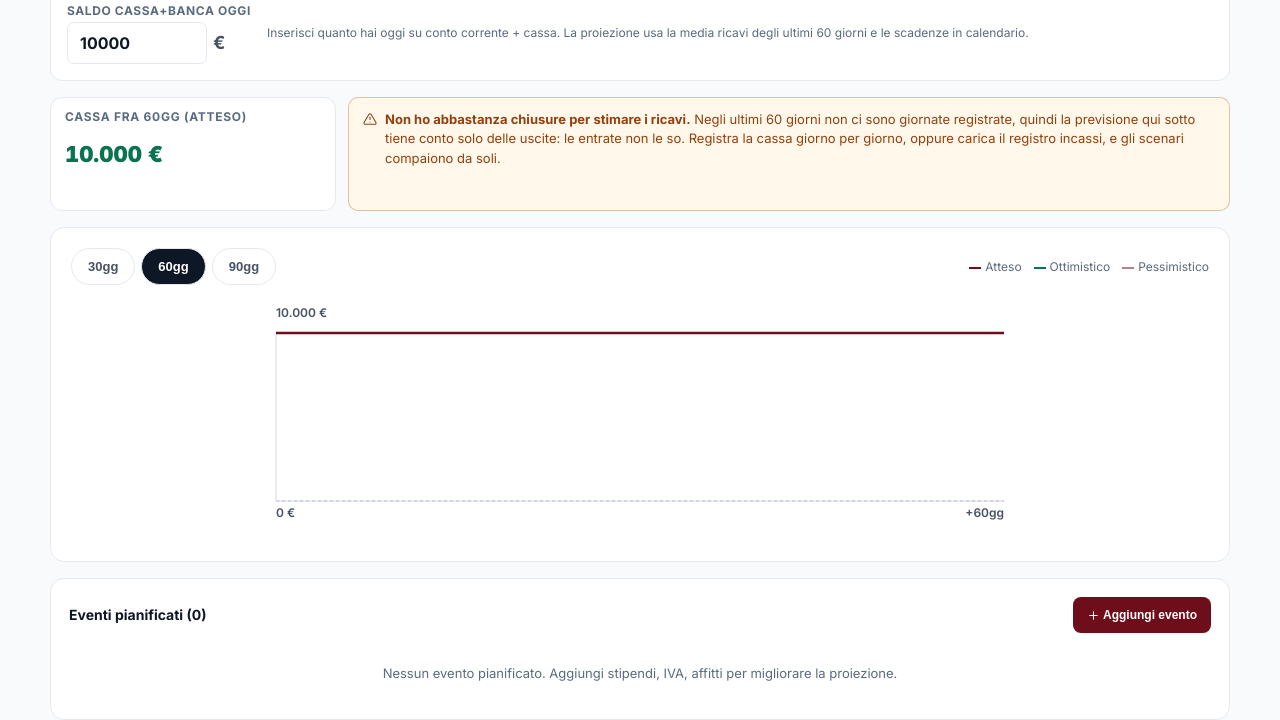
Test: aggiungere un evento: dice quale campo manca, e salva prima di mostrare › il modulo si chiude solo dopo che il salvataggio è andato
(page scrolled)
Click the button "Aggiungi evento" at coordinates (1142, 615), box [1073,597,1211,633]
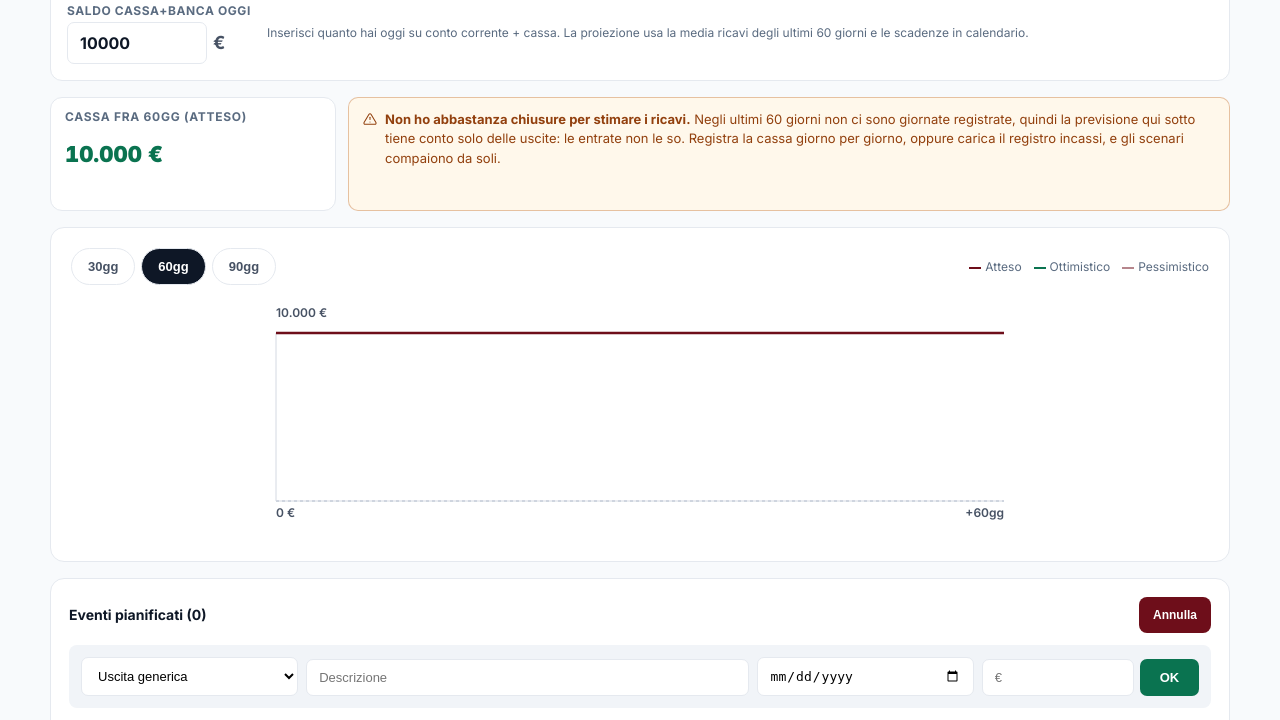
Expected: the field named "Importo in euro" is shown, [982,659,1134,696]
Type "IVA" into the field named "Descrizione dell'evento" at coordinates (527, 678), box [306,659,749,696]
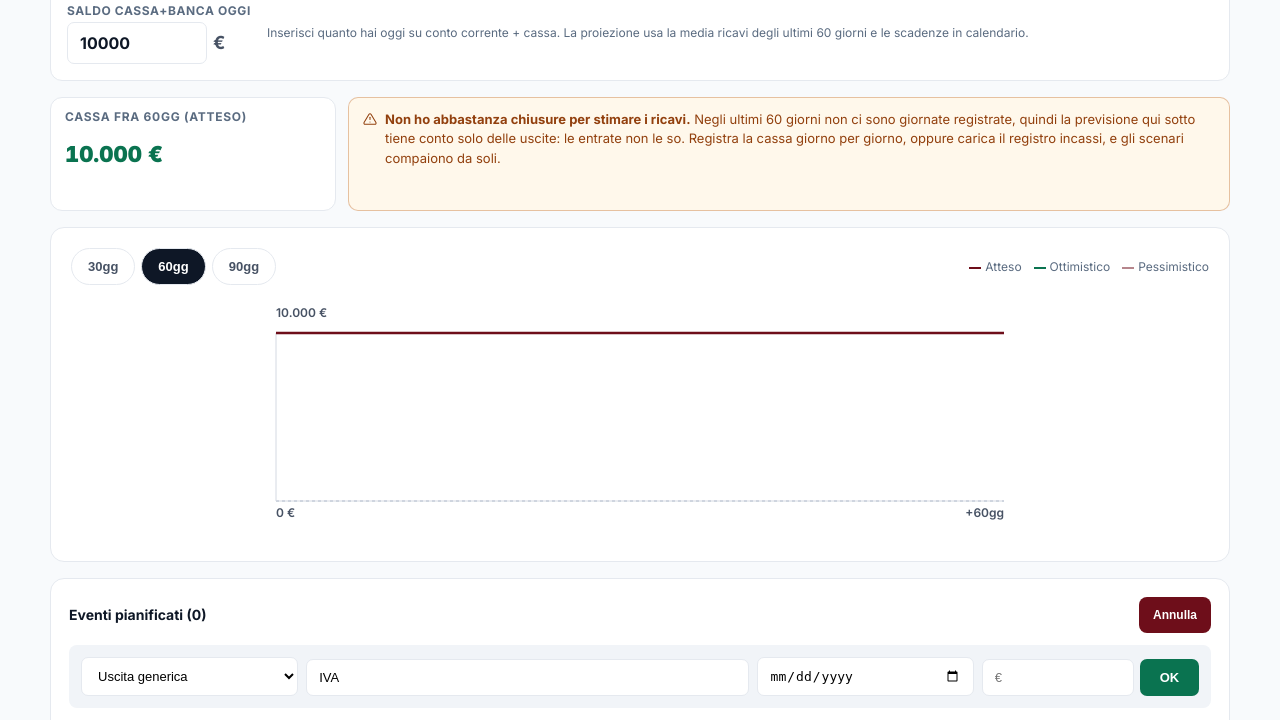
Type "2026-12-16" into the date field named "Data in cui te lo aspetti" at coordinates (865, 676), box [757,657,974,696]
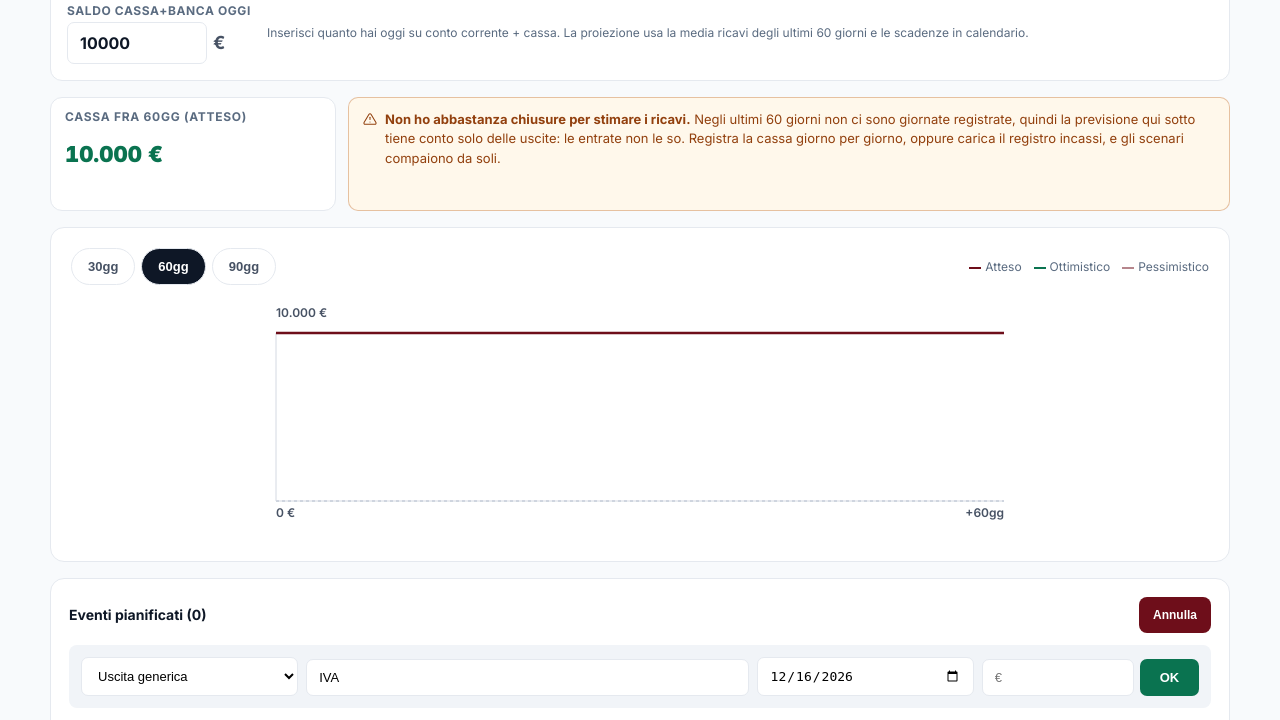
Type "900" into the field named "Importo in euro" at coordinates (1058, 678), box [982,659,1134,696]
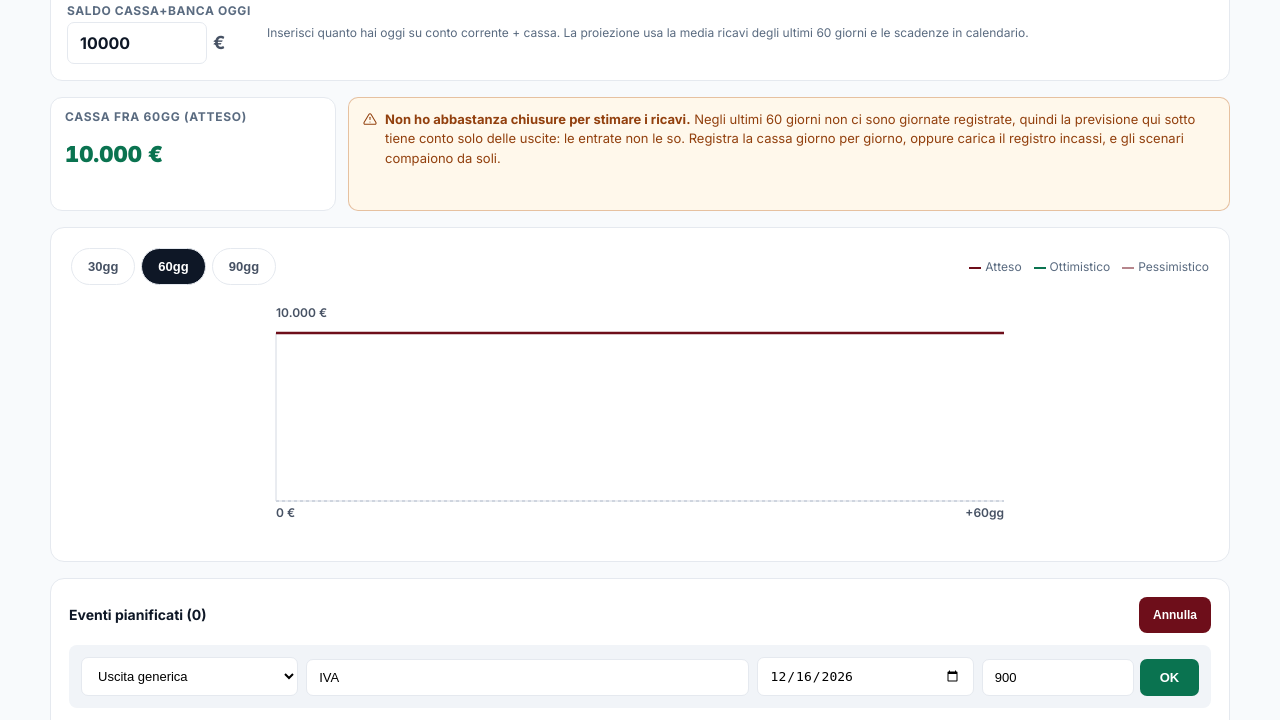
Click the button "OK" at coordinates (1169, 678), box [1140,659,1199,696]
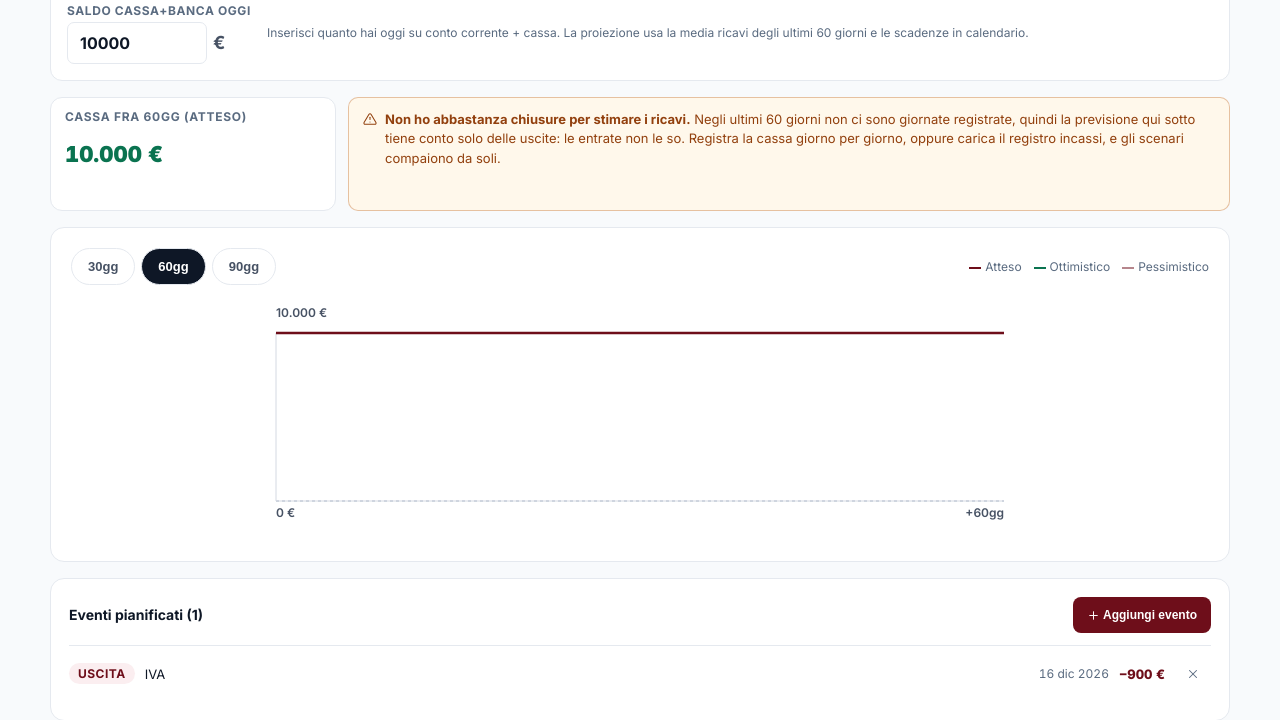
Expected: the date field is gone
